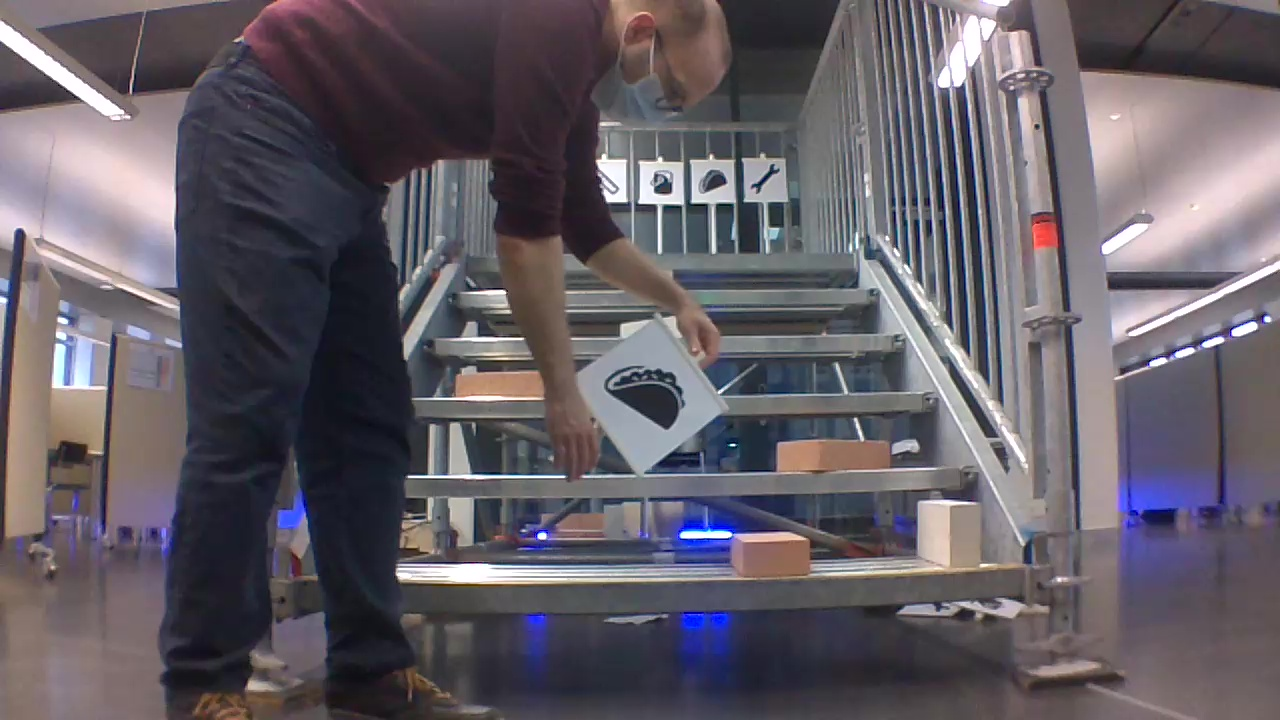brick: (917, 500, 979, 566), (777, 439, 891, 470), (730, 532, 808, 575), (456, 371, 540, 397)
bucket: (643, 167, 678, 197)
edge: (402, 567, 1025, 607), (408, 467, 978, 495)
taco: (598, 359, 690, 436), (695, 167, 729, 196)
wrench: (746, 159, 783, 198)
